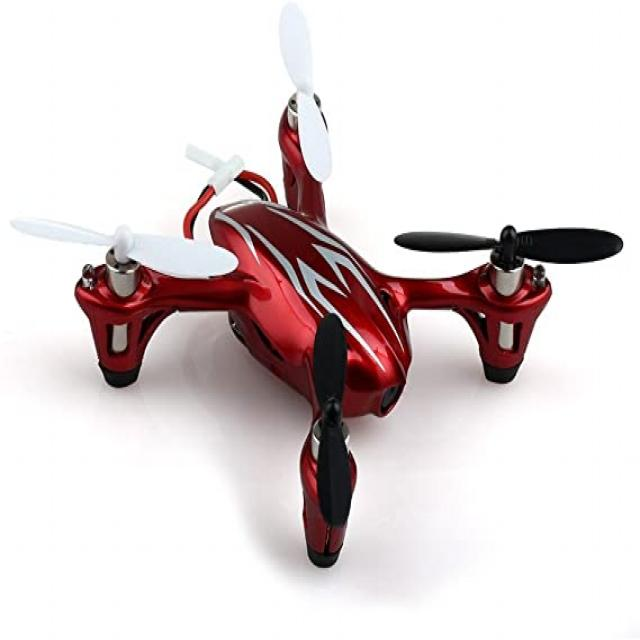drones: (11, 5, 625, 571)
